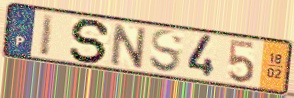4: (185, 32, 220, 81)
5: (225, 37, 257, 84)
I: (37, 11, 56, 58)
N: (110, 21, 149, 70)
S: (68, 17, 113, 65), (148, 28, 185, 76)
